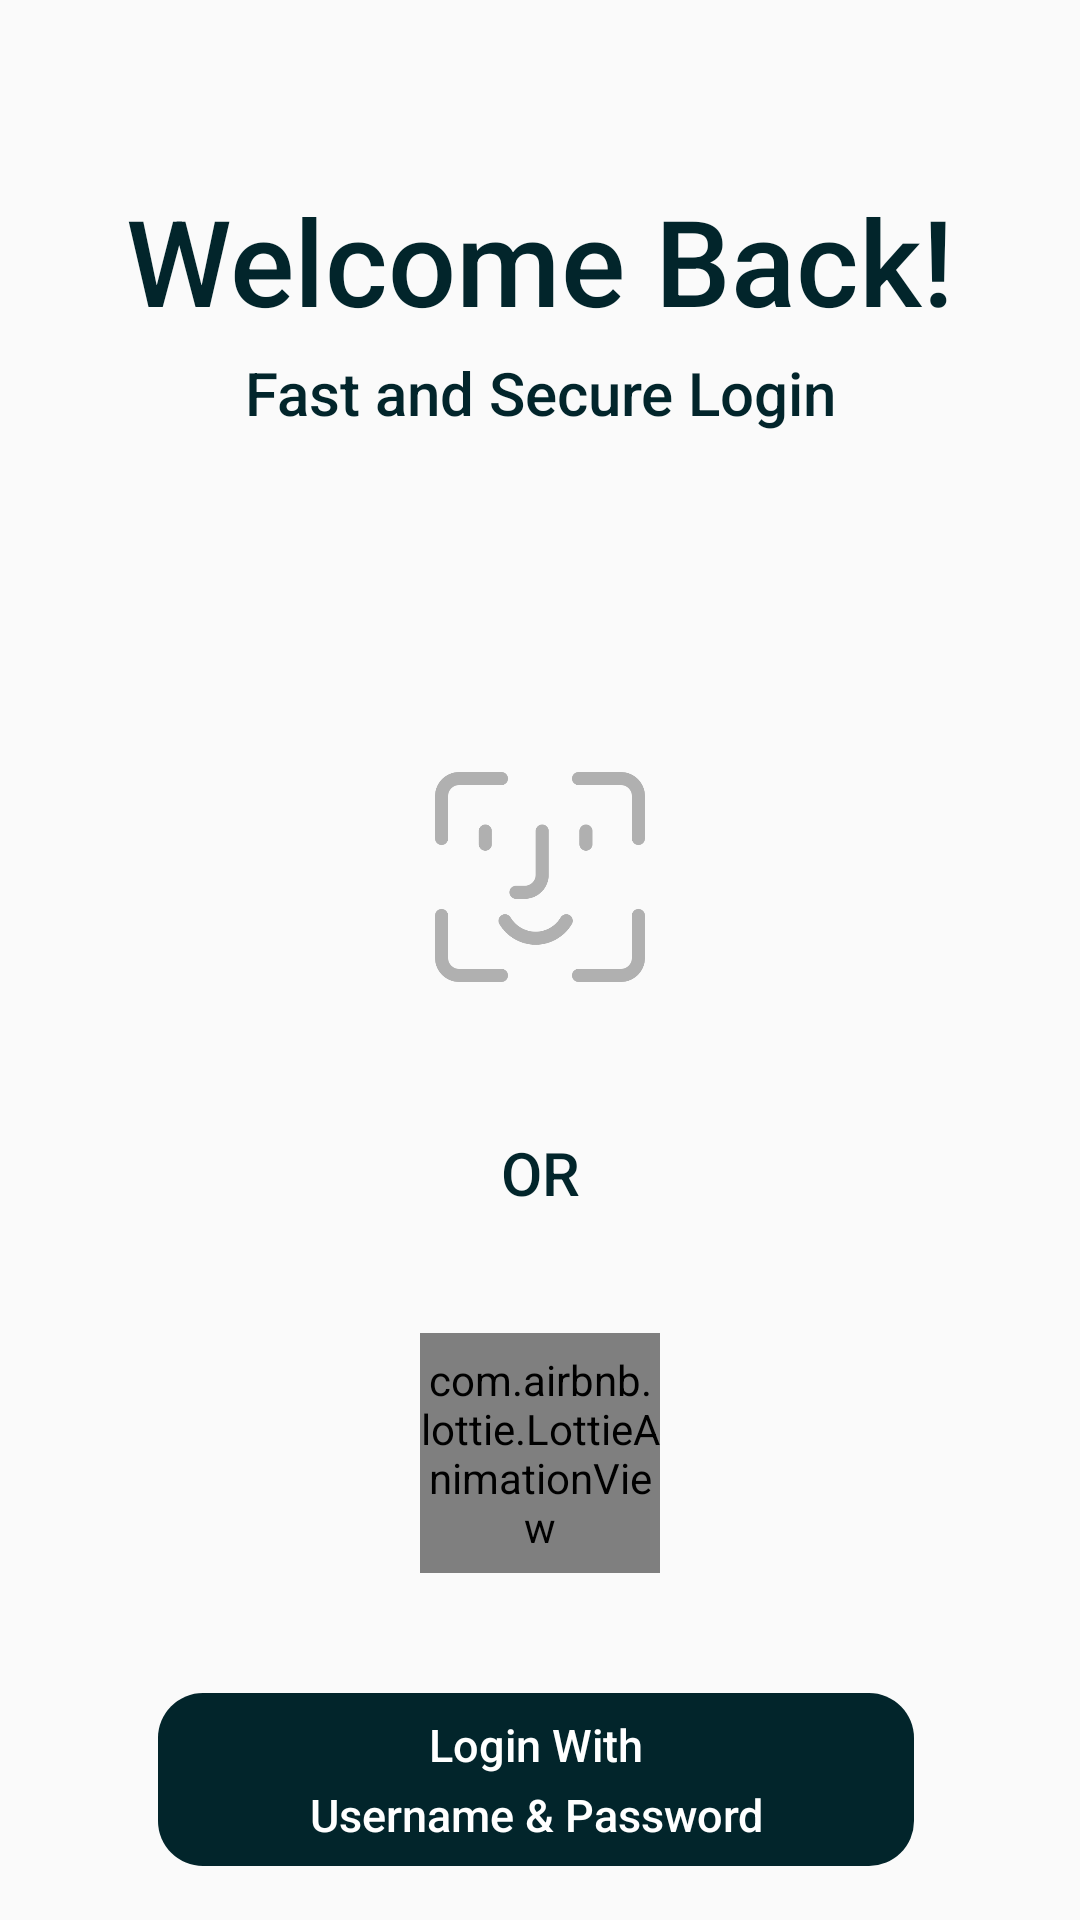

Icons on this 1080*1920 Android screen, each with the point to tap as [x,y]:
face recognition: [540,877]
